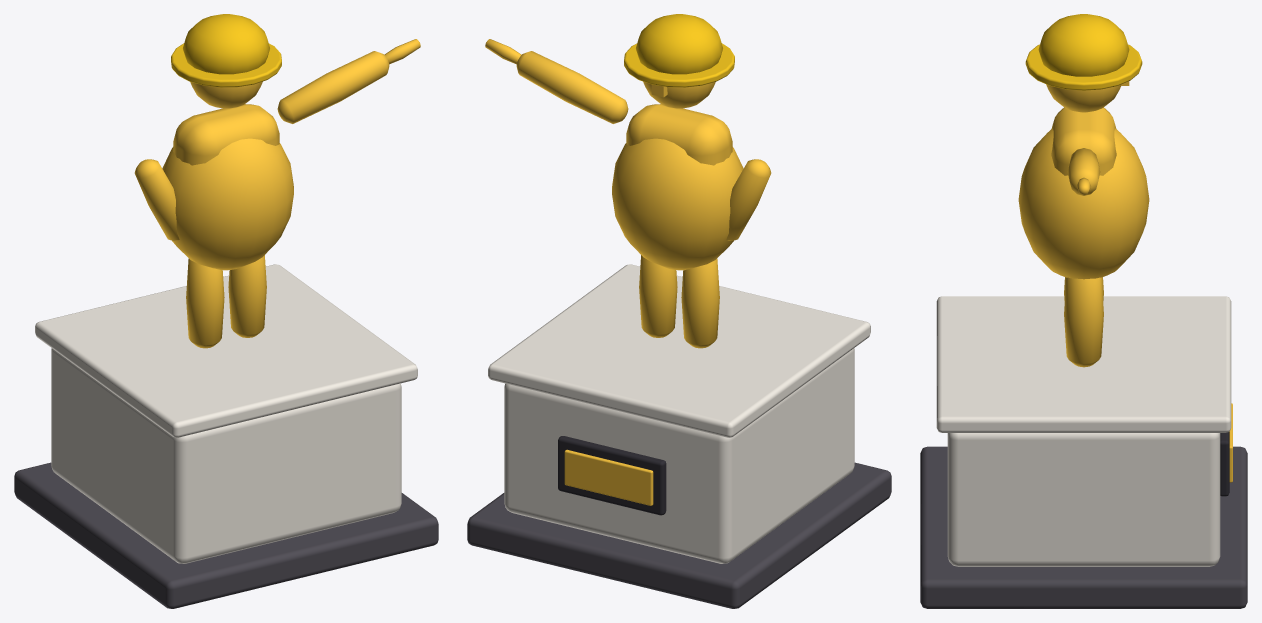
The model's file is building_ceo_statue_t1.glb.
The picture shows the model from 3 angles, left to right: view 1: azimuth 30°, elevation 25°; view 2: azimuth 150°, elevation 25°; view 3: azimuth 270°, elevation 25°; orthographic projection. The views are drawn at different scales.
Visible parts, largest first — view 1: PlinthMarble, PlinthCap, PlinthStep, Belly, HatDome, Suit, ArmPoint, LegL, LegR, HatBrim, ArmHip, Head; view 2: PlinthMarble, PlinthCap, PlinthStep, Belly, HatDome, Suit, ArmPoint, Plaque, PlaqueBack, LegL, LegR, HatBrim (+2 smaller); view 3: PlinthCap, PlinthMarble, PlinthStep, Belly, HatDome, LegR, Suit, HatBrim, Head, ArmPoint, PlaqueBack.
Boxes of the visible parts, x1,y1,x2,y2 form: PlinthMarble: [51, 348, 401, 563]; PlinthCap: [35, 264, 417, 437]; PlinthStep: [14, 462, 438, 608]; Belly: [162, 138, 293, 270]; HatDome: [183, 14, 269, 74]; Suit: [173, 104, 279, 165]; ArmPoint: [277, 51, 389, 123]; LegL: [186, 258, 224, 348]; LegR: [228, 255, 266, 337]; HatBrim: [171, 43, 281, 87]; ArmHip: [134, 159, 179, 240]; Head: [190, 81, 262, 108]; PlinthMarble: [504, 348, 854, 563]; PlinthCap: [488, 264, 870, 437]; PlinthStep: [467, 462, 891, 608]; Belly: [612, 138, 743, 270]; HatDome: [636, 14, 722, 74]; Suit: [626, 104, 732, 165]; ArmPoint: [516, 51, 628, 123]; Plaque: [564, 449, 653, 505]; PlaqueBack: [558, 436, 666, 515]; LegL: [681, 258, 719, 348]; LegR: [639, 255, 677, 337]; HatBrim: [624, 43, 734, 87]; PlinthCap: [936, 296, 1231, 432]; PlinthMarble: [947, 433, 1220, 566]; PlinthStep: [920, 446, 1247, 608]; Belly: [1018, 128, 1149, 279]; HatDome: [1038, 14, 1129, 76]; LegR: [1064, 277, 1103, 367]; Suit: [1051, 107, 1116, 175]; HatBrim: [1025, 44, 1142, 90]; Head: [1046, 84, 1120, 112]; ArmPoint: [1067, 148, 1100, 195]; PlaqueBack: [1220, 432, 1229, 496].
Bounding box in the file's own units: 2.18 × 3.18 × 1.8.
